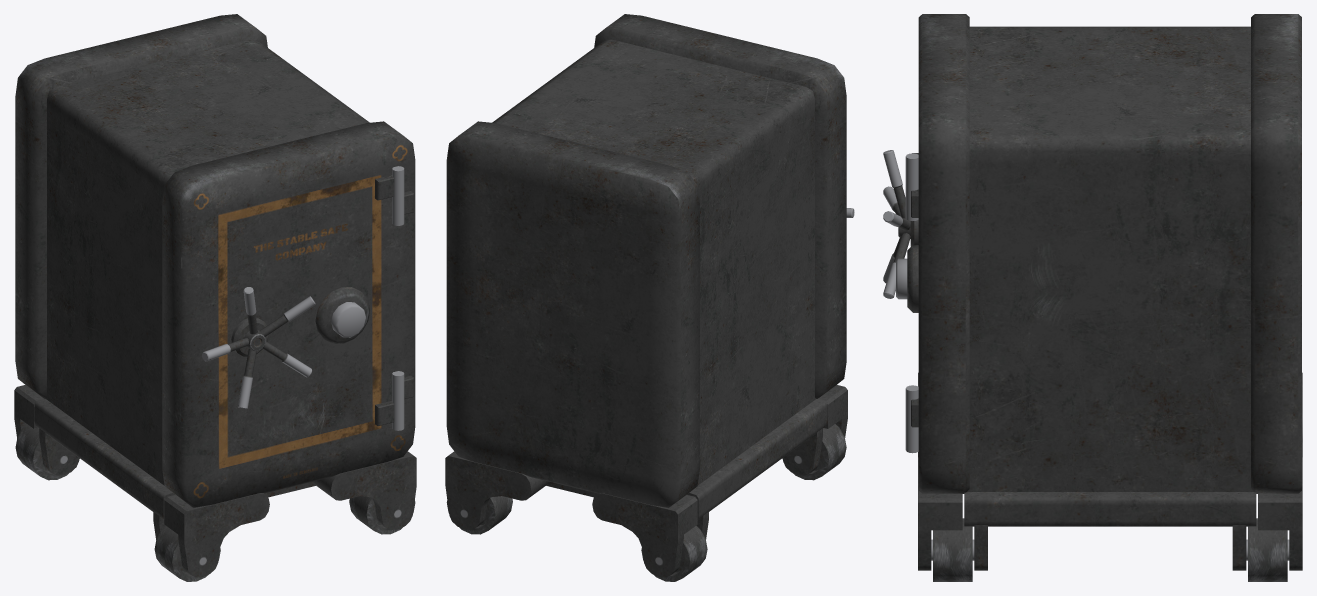
Rendered from Antique_Iron_Safe.glb.
3 renders of one model, left to right at view 1: azimuth 30°, elevation 25°; view 2: azimuth 150°, elevation 25°; view 3: azimuth 270°, elevation 25°, orthographic. The views are drawn at different scales.
Parts seen in each view (by area): view 1: Safe_LP; view 2: Safe_LP; view 3: Safe_LP.
Boxes of the visible parts, bbox=[...] form: Safe_LP: bbox=[14, 14, 416, 581]; Safe_LP: bbox=[445, 14, 854, 581]; Safe_LP: bbox=[883, 14, 1302, 581].
Size of the model in its own units: 190 by 300 by 250.
1 material, 1 textured.
